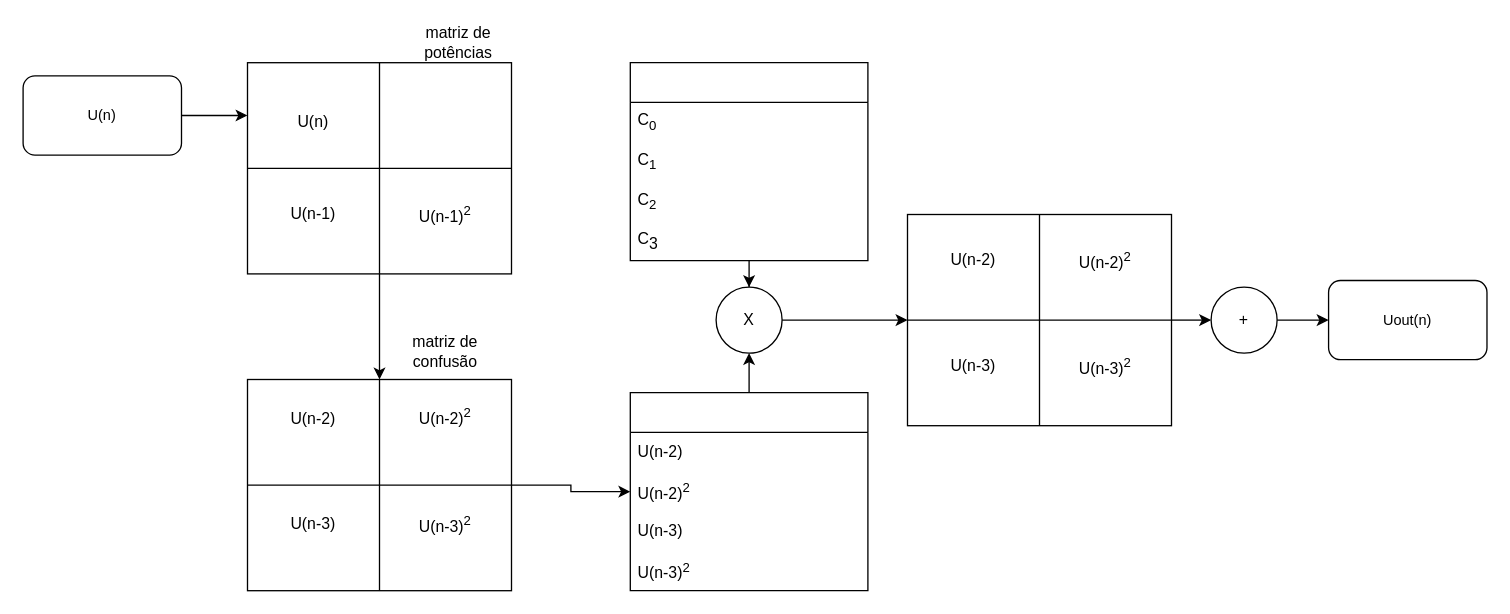
Some shapes in this 1510 by 614 pixel diagram are drawn without their labels. The shapes that lost their labels are listed below. From the top down, each one's box as (x1, y1, x2, y2) in pixels, then its label:
(629, 61, 868, 261): Coeficientes
(629, 391, 868, 591): elementos da matriz de cofunsão
